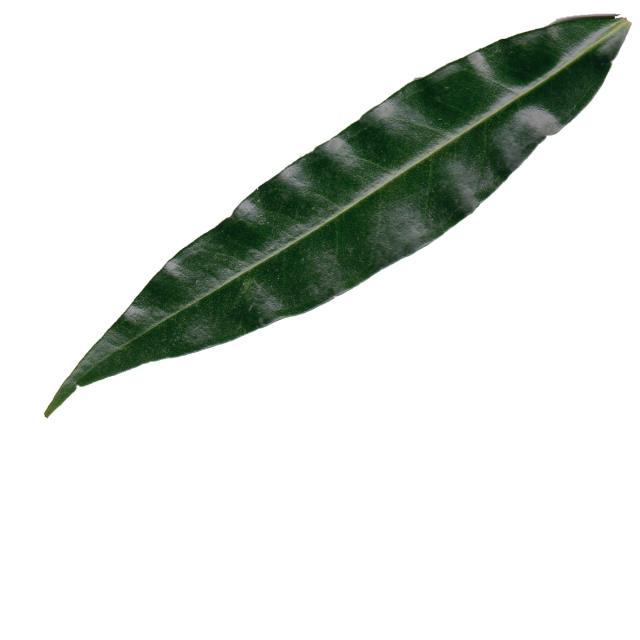Medicinal-Rose Apple: (42, 11, 626, 416)
